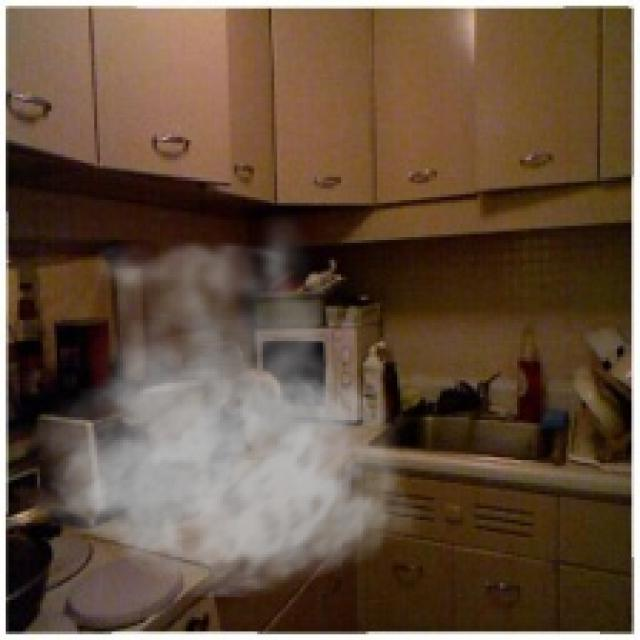smoke: (20, 206, 420, 600)
